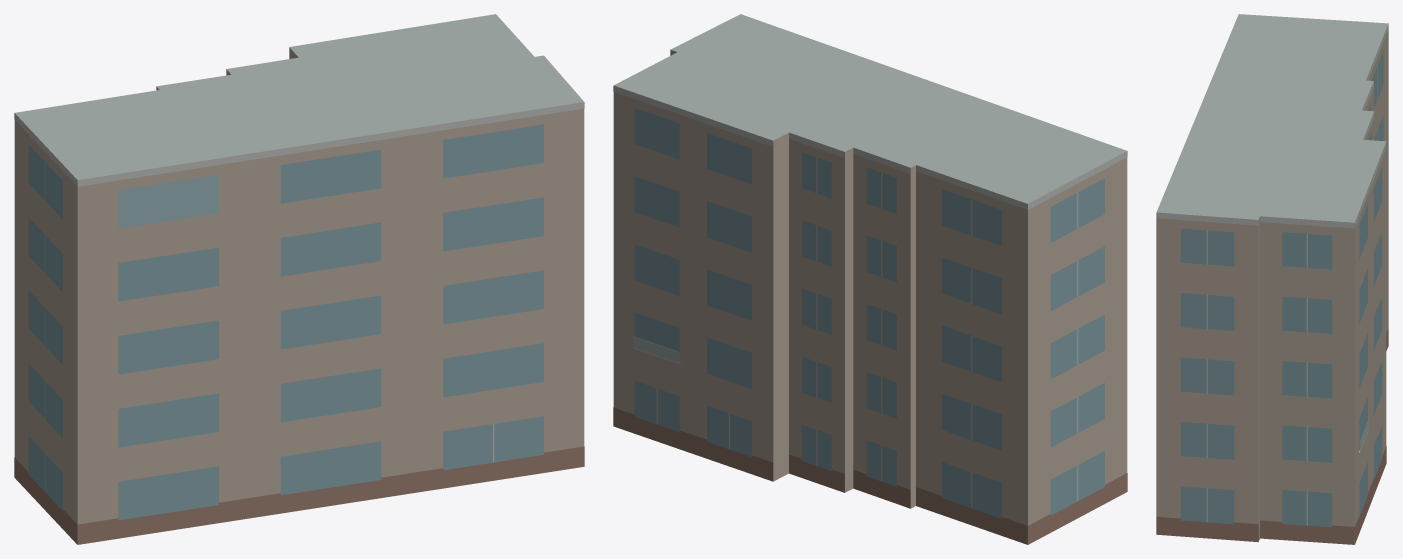
File: survey-upis-32651293.glb
The picture shows the model from 3 angles, left to right: view 1: azimuth 30°, elevation 25°; view 2: azimuth 150°, elevation 25°; view 3: azimuth 270°, elevation 25°; orthographic projection. The views are drawn at different scales.
Parts seen in each view (by area): view 1: survey-upis-32651293.tmp; view 2: survey-upis-32651293.tmp; view 3: survey-upis-32651293.tmp.
Part boxes in pixels (bbox=[...]): survey-upis-32651293.tmp: bbox=[14, 14, 584, 544]; survey-upis-32651293.tmp: bbox=[613, 14, 1127, 544]; survey-upis-32651293.tmp: bbox=[1156, 14, 1388, 544].
Bounding box in the file's own units: 18.76 × 13.5 × 8.83.
